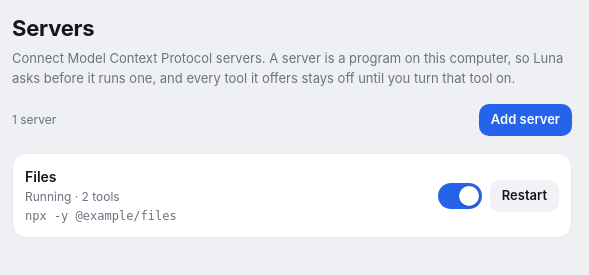
Test: Servers panel › reports what a restart found
Click the button "Restart": (524, 196) x1=490 y1=180 x2=559 y2=212
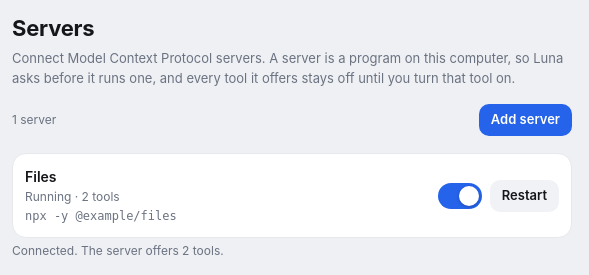
Expected: the text "Connected. The server offers 2 tools." is shown, x1=12 y1=243 x2=224 y2=258
